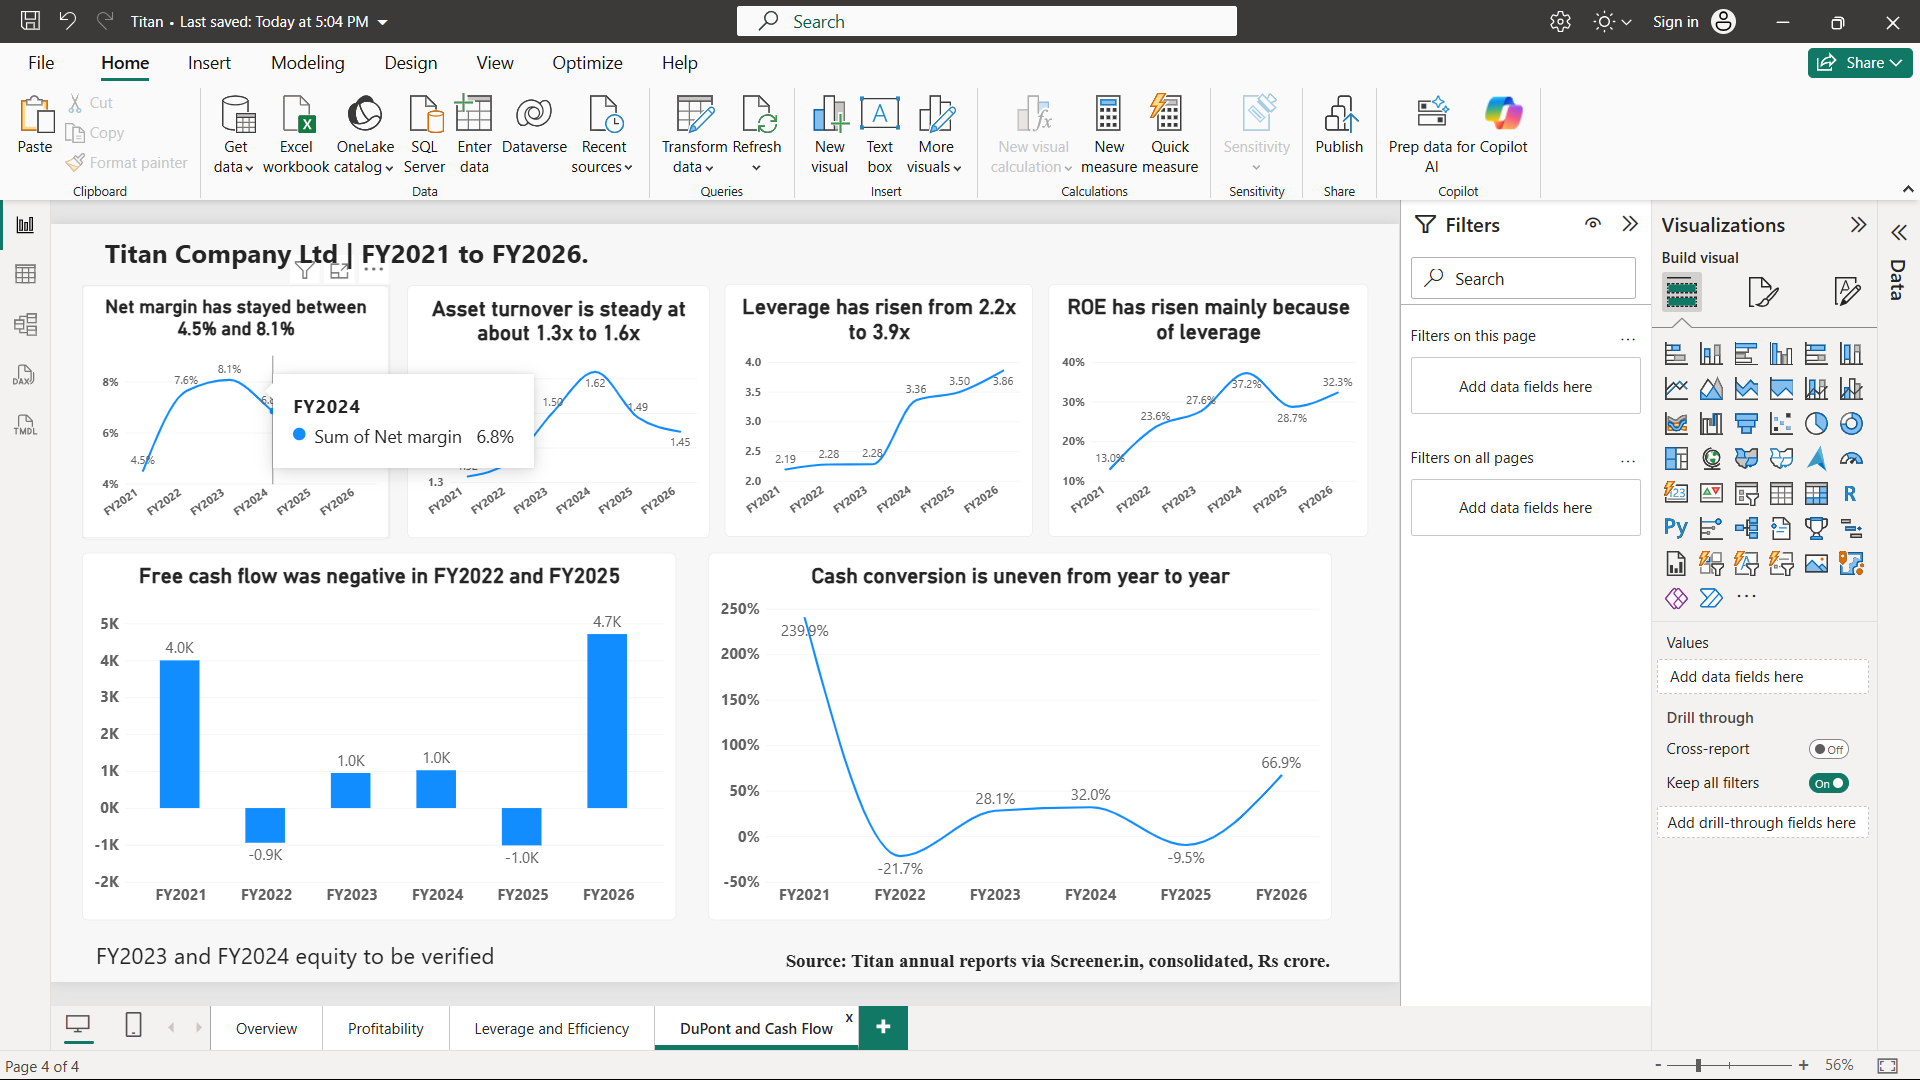

Layout of this report page (visuals, bound fields, positions):
{"tool":"powerbi","page":{"name":"DuPont and Cash Flow","canvas":[1920,1080],"ordinal":3},"visuals":[{"type":"lineChart","title":"Net margin has stayed between 4.5% and 8.1%","fields":{"Category":["PowerBI_Data.Year"],"Y":["Sum(PowerBI_Data.Net margin)"]},"box":[45.3,86.4,436.4,362.3],"z":0},{"type":"lineChart","title":"Asset turnover is steady at about 1.3x to 1.6x","fields":{"Category":["PowerBI_Data.Year"],"Y":["Sum(PowerBI_Data.Asset turnover)"]},"box":[506.3,86.4,430.2,360.2],"z":1000},{"type":"lineChart","title":"\tLeverage has risen from 2.2x to 3.9x","fields":{"Category":["PowerBI_Data.Year"],"Y":["Sum(PowerBI_Data.Equity multiplier)"]},"box":[959.7,85.4,438.4,360.2],"z":2000},{"type":"lineChart","title":"\tROE has risen mainly because of leverage","fields":{"Category":["PowerBI_Data.Year"],"Y":["Sum(PowerBI_Data.ROE)"]},"box":[1420.4,85.4,454.9,360.2],"z":3000},{"type":"clusteredColumnChart","title":"Free cash flow was negative in FY2022 and FY2025","fields":{"Category":["PowerBI_Data.Year"],"Y":["Sum(PowerBI_Data.Free cash flow)"]},"box":[45.3,467.2,846,522.8],"z":4000},{"type":"lineChart","title":"\tCash conversion is uneven from year to year","fields":{"Category":["PowerBI_Data.Year"],"Y":["Sum(PowerBI_Data.CFO to EBITDA)"]},"box":[936.5,467.2,887.1,522.8],"z":5000},{"type":"textbox","box":[76.2,16.5,765.7,53.5],"z":6000},{"type":"textbox","box":[1039.5,1034.7,792.5,45.3],"z":7000},{"type":"textbox","box":[64.1,1019.8,656.7,58.7],"z":7001}]}

Visuals, with their boxes on the page's 1920x1080 design canvas (x1, y1, x2, y2). These are canvas units, not pixel positions in the 1920x1080 screenshot, which may show the page scaled, cropped or inside an application window:
"Net margin has stayed between 4.5% and 8.1%" lineChart: rect(45, 86, 482, 449)
"Asset turnover is steady at about 1.3x to 1.6x" lineChart: rect(506, 86, 936, 447)
"	Leverage has risen from 2.2x to 3.9x" lineChart: rect(960, 85, 1398, 446)
"	ROE has risen mainly because of leverage" lineChart: rect(1420, 85, 1875, 446)
"Free cash flow was negative in FY2022 and FY2025" clusteredColumnChart: rect(45, 467, 891, 990)
"	Cash conversion is uneven from year to year" lineChart: rect(936, 467, 1824, 990)
textbox: rect(76, 16, 842, 70)
textbox: rect(1040, 1035, 1832, 1080)
textbox: rect(64, 1020, 721, 1078)
